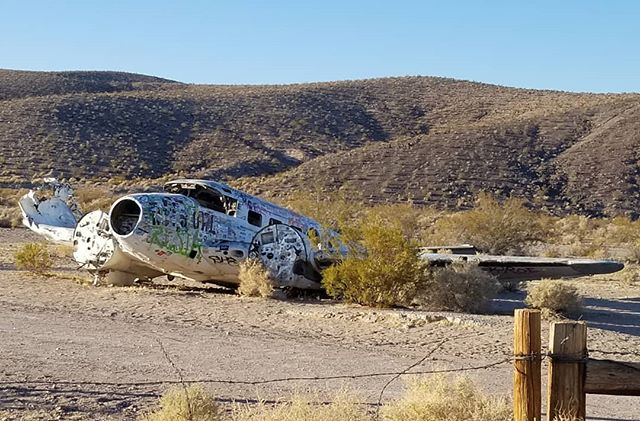mountain: (1, 33, 640, 183)
plane: (32, 183, 618, 311)
sky: (6, 1, 640, 74)
